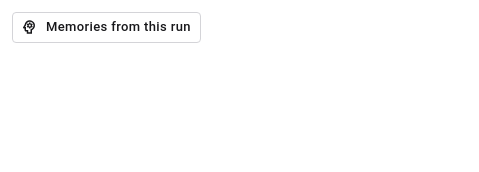
RunMemoriesButton › says so when the run wrote nothing the caller can read
The image size is (479, 172).
Click the button "Memories from this run" at {"x": 106, "y": 27}, box [12, 12, 201, 43]
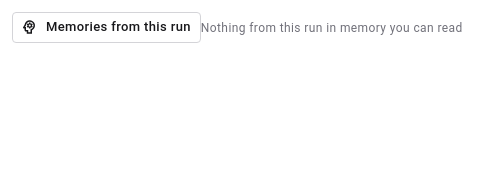
Expected: the message reads "Nothing from this run in memory you can read", [201, 21, 463, 35]
